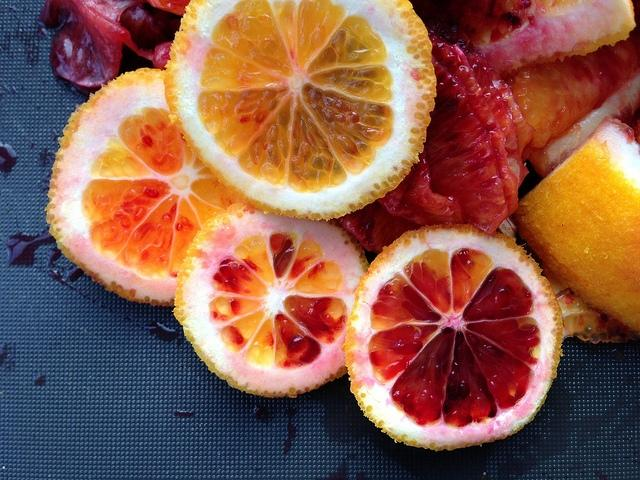orange: (166, 0, 434, 220), (342, 223, 564, 452), (43, 68, 236, 307), (172, 200, 370, 398), (514, 117, 640, 337), (511, 32, 640, 180), (458, 0, 637, 78)
